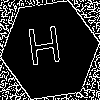H: (25, 25, 65, 76)
